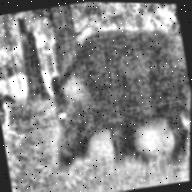boar: (32, 1, 192, 179)
